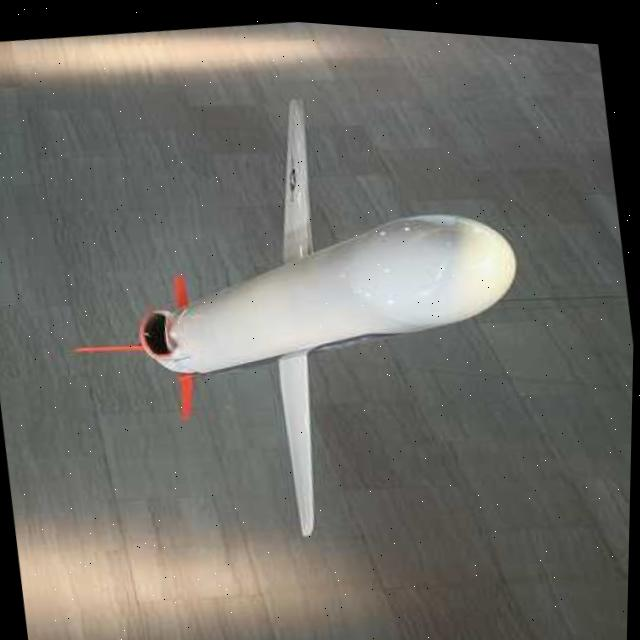missile: (93, 61, 534, 567)
